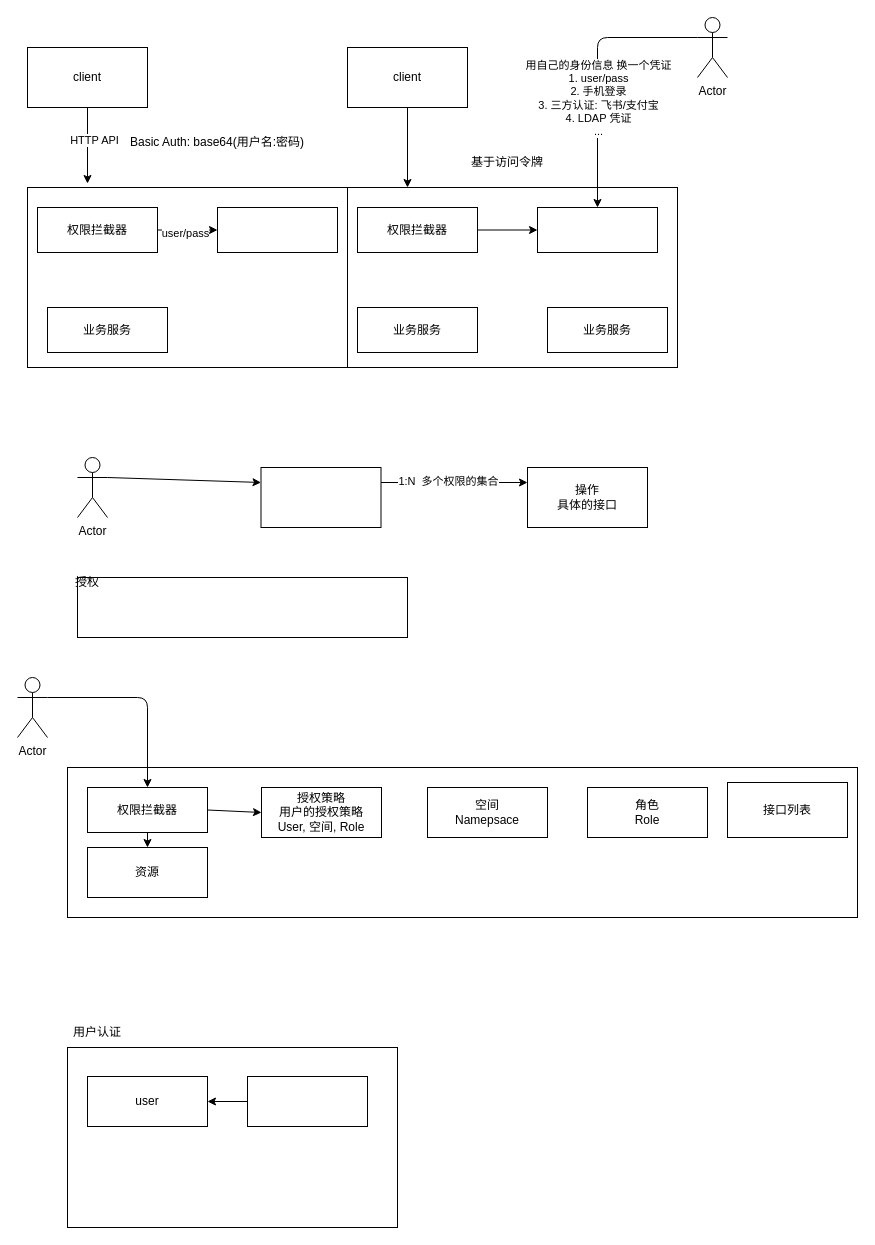
Some shapes in this 875 by 1245 pixel diagram are drawn without their labels. Each missing label, with the box of its shape:
token: (246, 1076, 368, 1126)
Who 角色 Namespace A 开发 项目A: (76, 576, 408, 638)
令牌颁发: (536, 206, 658, 252)
用户模块: (216, 206, 338, 252)
角色: (260, 466, 381, 528)
